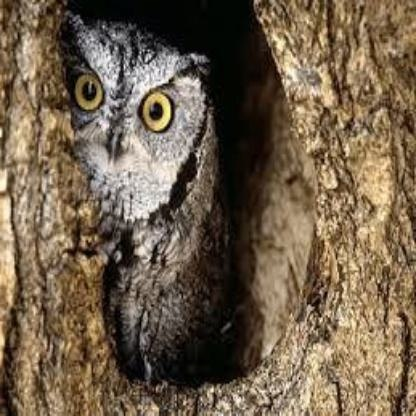Owl: (60, 21, 224, 361)
